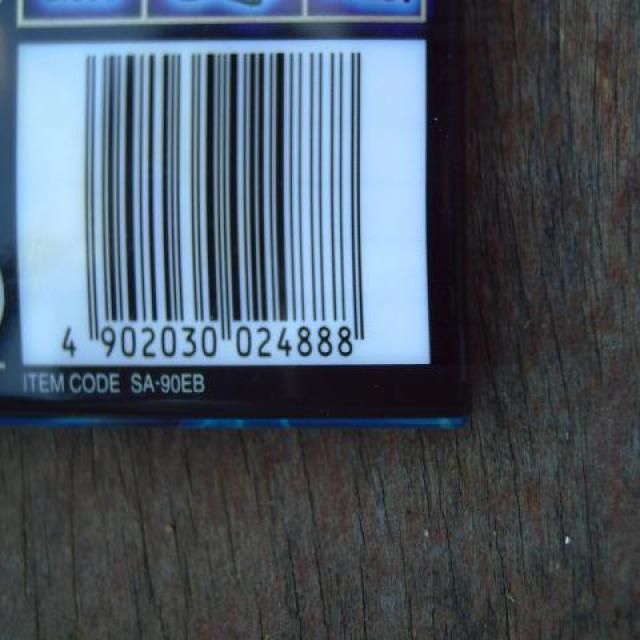Barcode: (19, 45, 428, 362)
